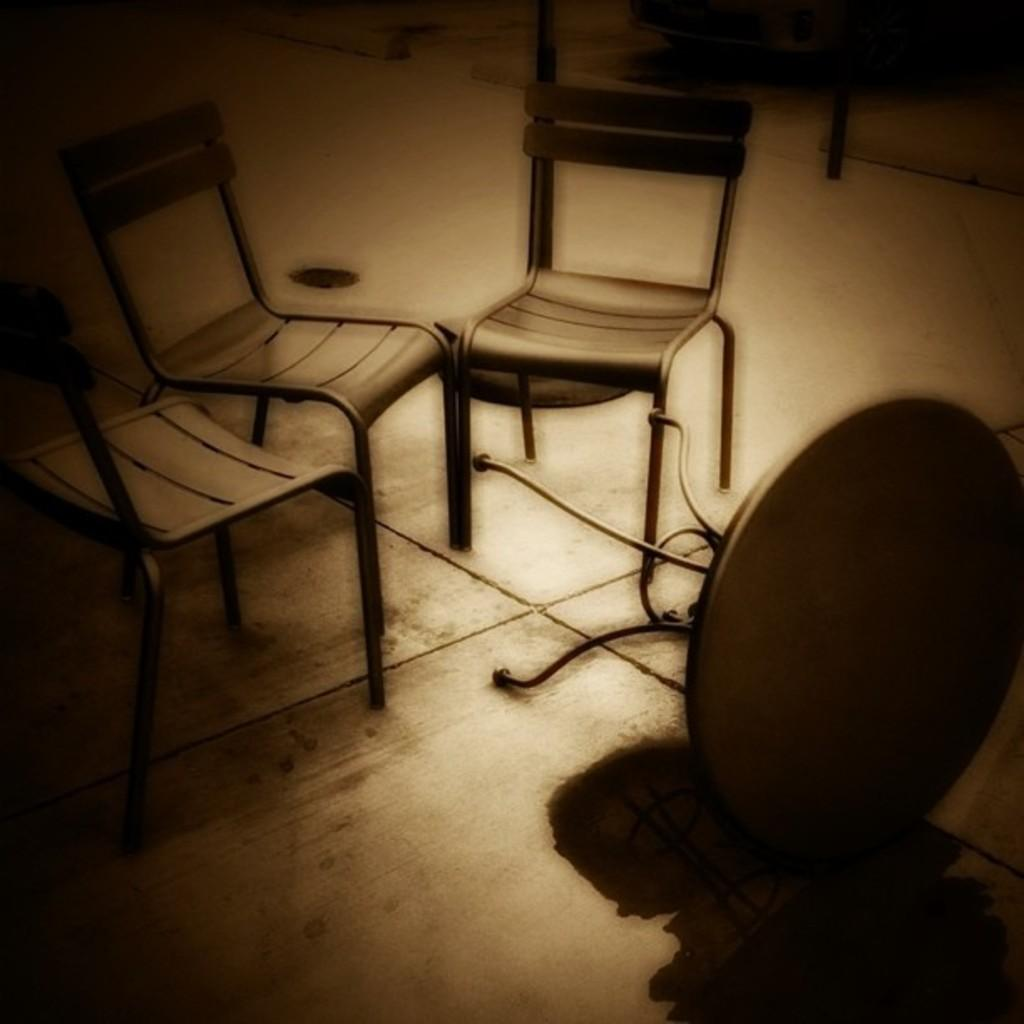Chair: (0, 271, 393, 875), (64, 100, 445, 714), (450, 80, 753, 589)
